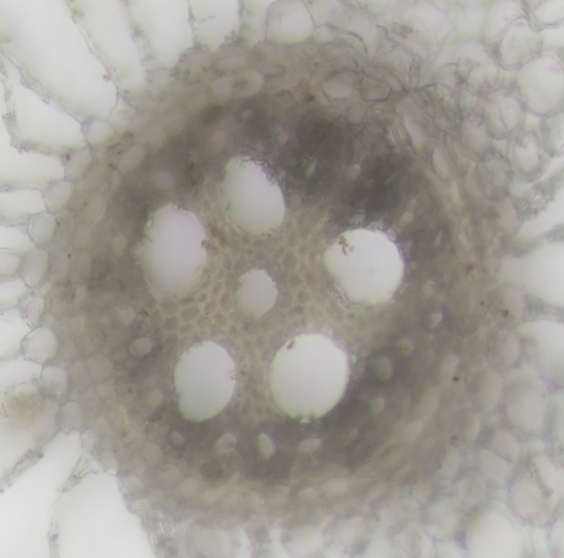lm: (268, 333, 350, 422), (136, 203, 208, 304), (323, 227, 405, 307), (219, 152, 286, 240), (174, 339, 236, 423), (232, 267, 278, 319)
